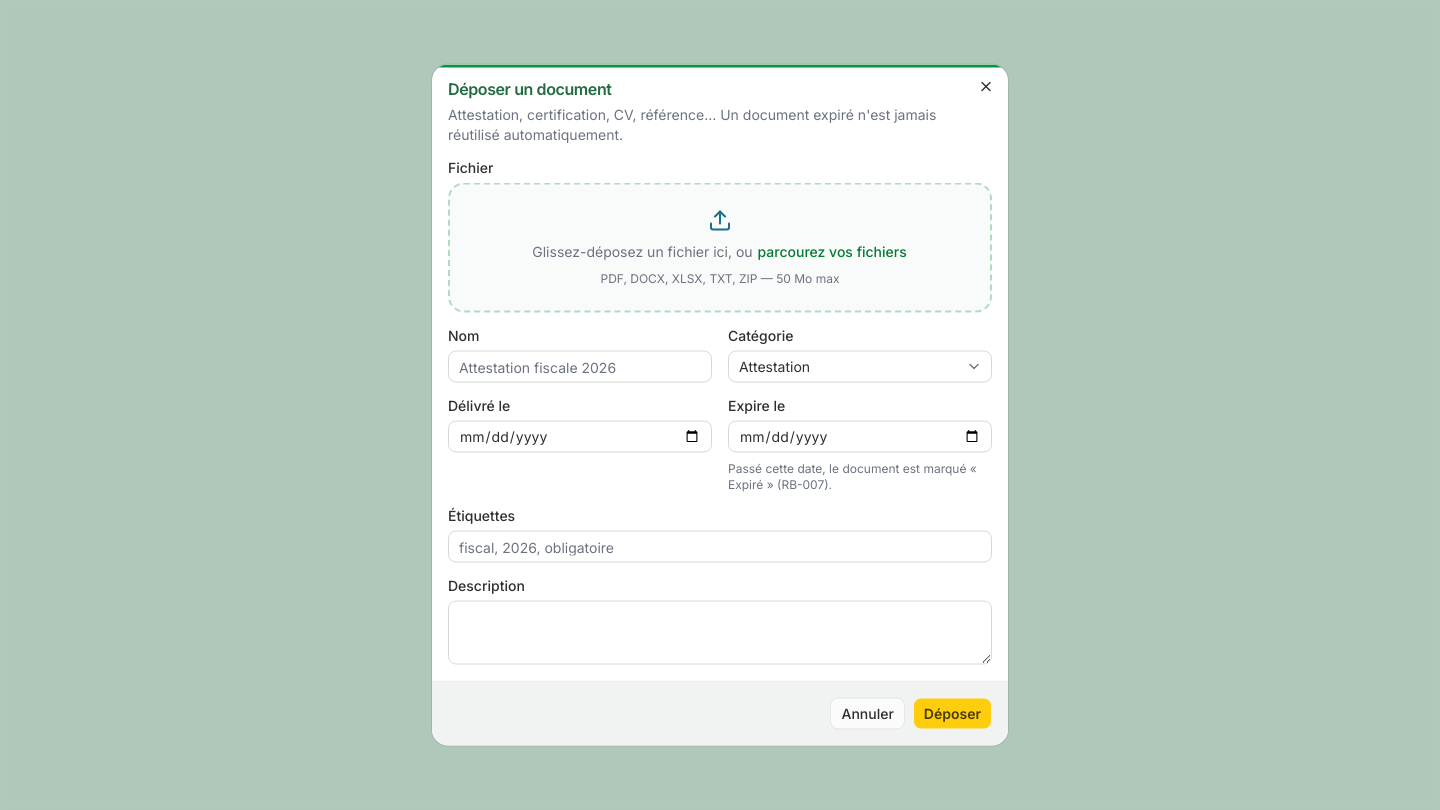
it: UploadDialog › refuses to submit without a file
Click the button "Déposer": (952, 714) [913,698,992,730]
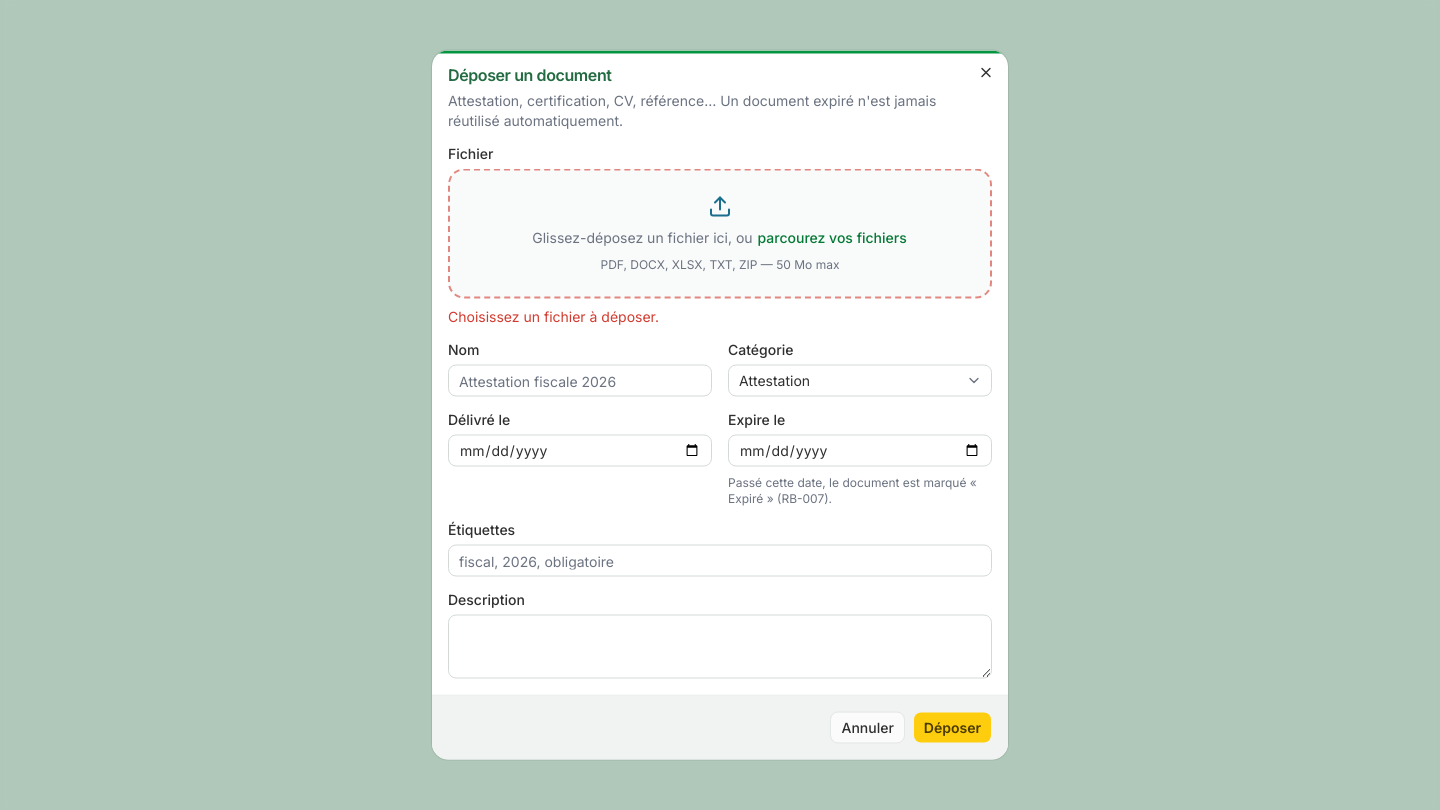
Result: the message shows "fichier" at [448,308,659,324]
